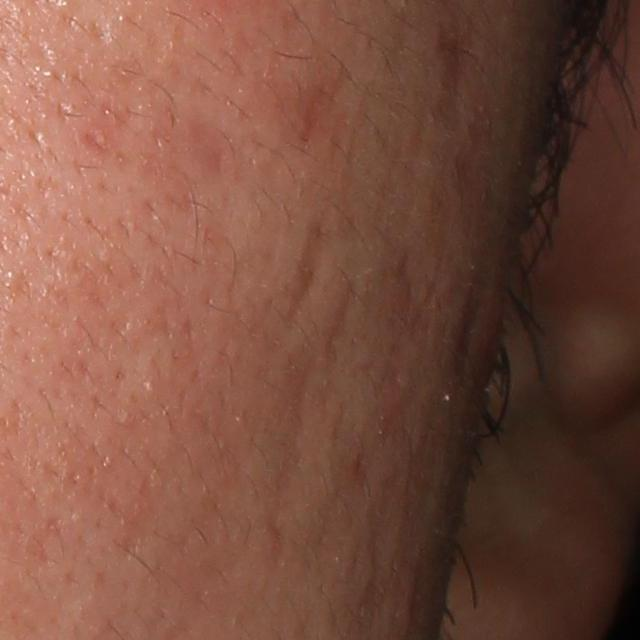atrophic_scar: (286, 218, 332, 324), (439, 1, 470, 136)
